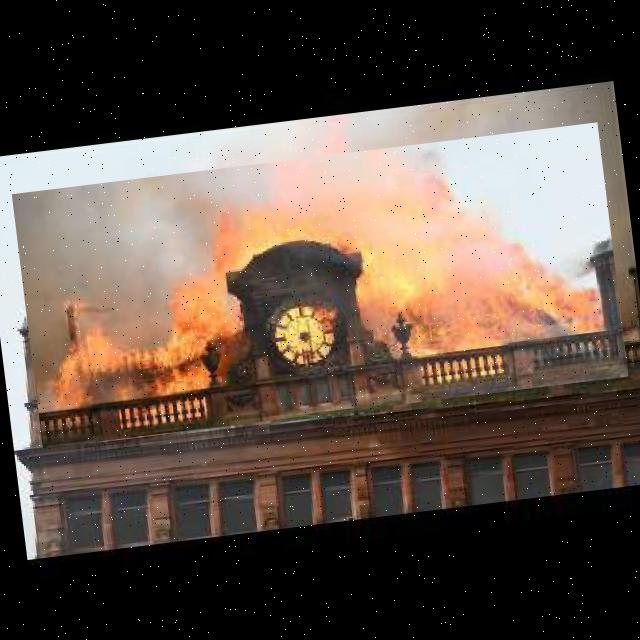fire: (11, 122, 628, 448)
